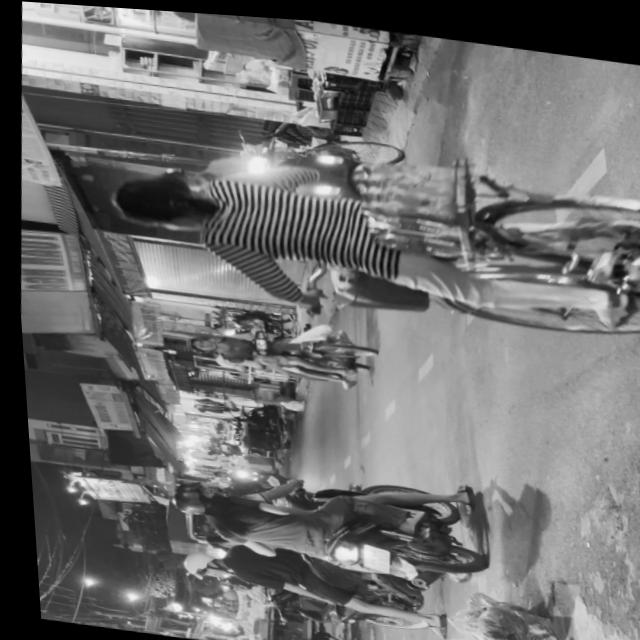helmet: (163, 481, 214, 515), (172, 545, 220, 576), (179, 331, 214, 350)
licenseplate: (153, 444, 485, 582), (166, 528, 431, 618), (174, 302, 374, 386)
nohelmet: (352, 539, 381, 566)
